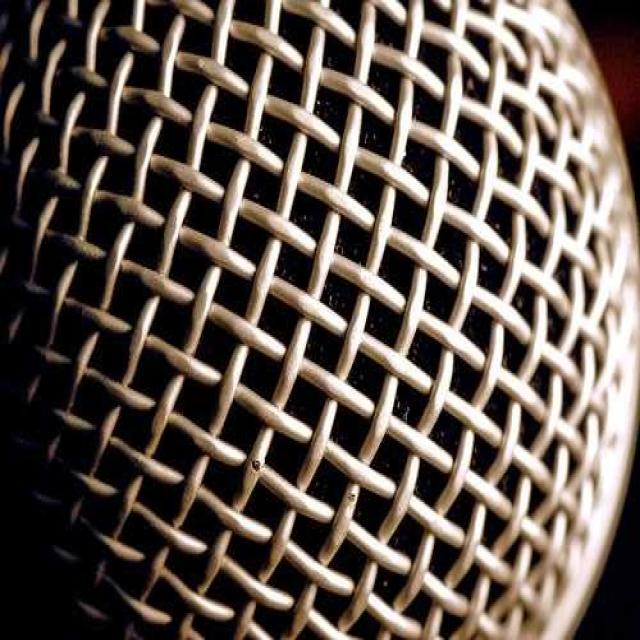microphone: (5, 0, 630, 634)
